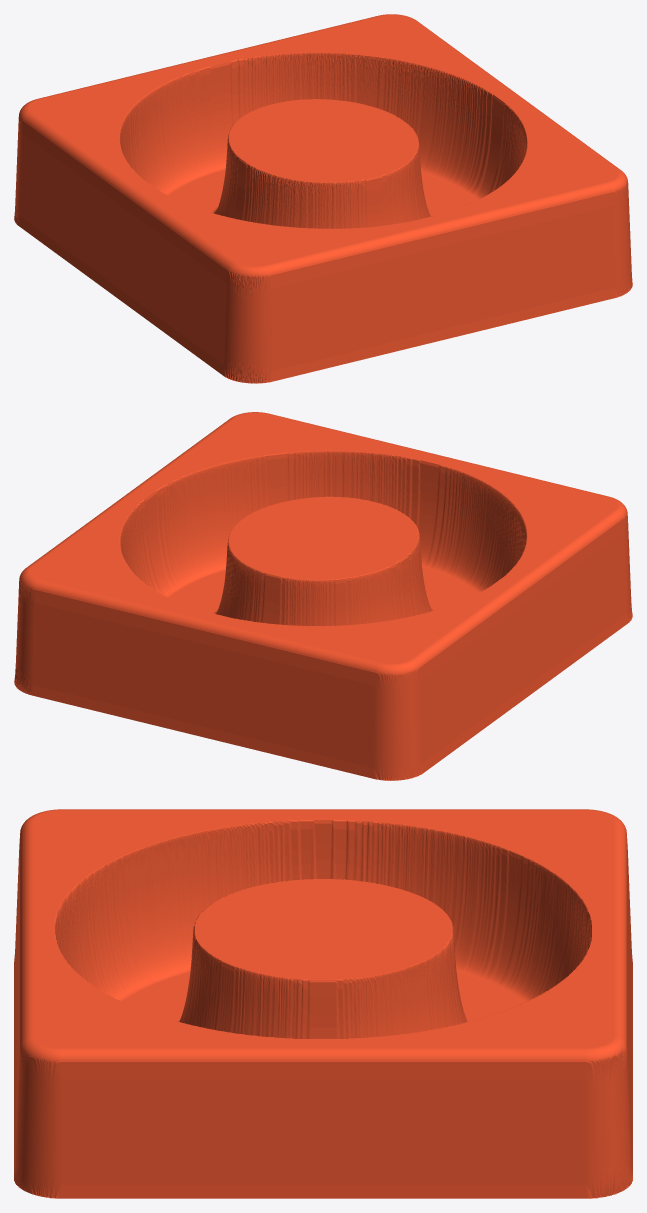
The model's file is mold.glb.
3 views of the same model, one above another, from view 1: azimuth 30°, elevation 25°; view 2: azimuth 150°, elevation 25°; view 3: azimuth 270°, elevation 25° (orthographic). The views are drawn at different scales.
Visible parts, largest first — view 1: geometry_0; view 2: geometry_0; view 3: geometry_0.
Boxes of the visible parts, x1,y1,x2,y2 form: geometry_0: (14,14,632,383); geometry_0: (14,412,632,780); geometry_0: (14,809,632,1198).
Size of the model in its own units: 0.1142 by 0.0299 by 0.1178.
